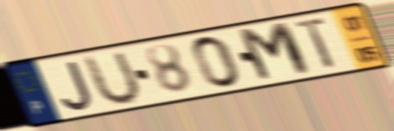0: (189, 34, 244, 91)
8: (147, 43, 193, 98)
J: (59, 59, 96, 112)
M: (234, 19, 317, 86)
T: (293, 14, 339, 73)
U: (81, 48, 143, 109)
